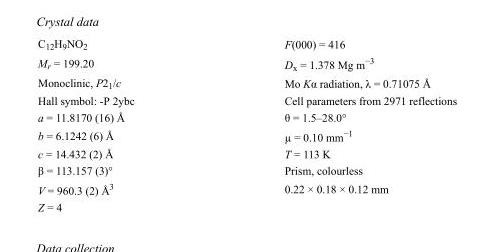table: (37, 36, 456, 212)
table column: (208, 36, 456, 212), (37, 36, 208, 212)
table row: (37, 52, 456, 73), (37, 125, 456, 145), (37, 178, 456, 198), (37, 73, 456, 91), (37, 91, 456, 108), (37, 108, 456, 125), (37, 161, 456, 178), (37, 36, 456, 52), (37, 145, 456, 161), (37, 198, 456, 212)
